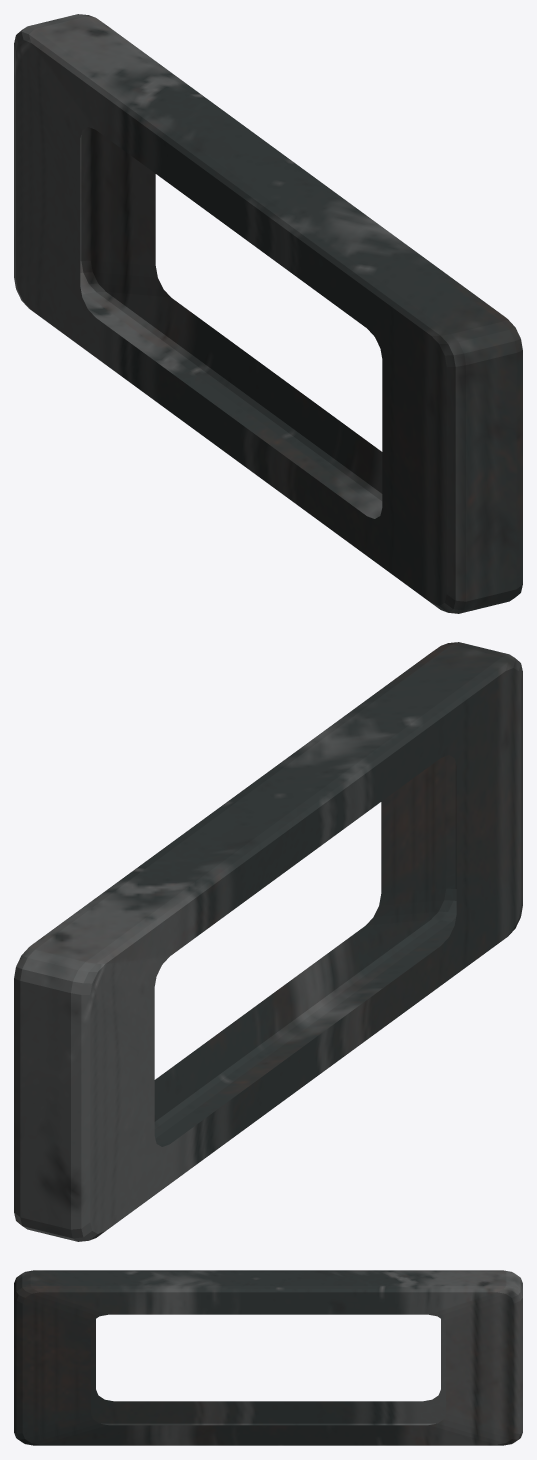
The model's file is Vent3.fbx.
3 renders of one model, top to bottom at view 1: azimuth 30°, elevation 25°; view 2: azimuth 150°, elevation 25°; view 3: azimuth 270°, elevation 25°, orthographic. The views are drawn at different scales.
Visible parts, largest first — view 1: Vent3; view 2: Vent3; view 3: Vent3.
Part boxes in pixels (x1,y1,x2,y2): Vent3: [14, 14, 522, 613]; Vent3: [14, 642, 522, 1241]; Vent3: [14, 1270, 522, 1445].
Size of the model in its own units: 96.72 by 320 by 932.
Materials: 1 (1 with a texture image).
